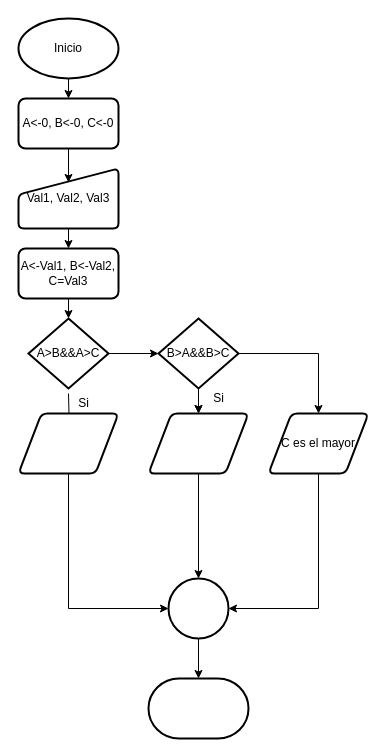
Image size: 386x756. Some labels were removed from this diagram. Each missing label, with the centre of its shape:
A es el mayor: pixel 68 443
B es el mayor: pixel 198 443
Fin: pixel 198 708
